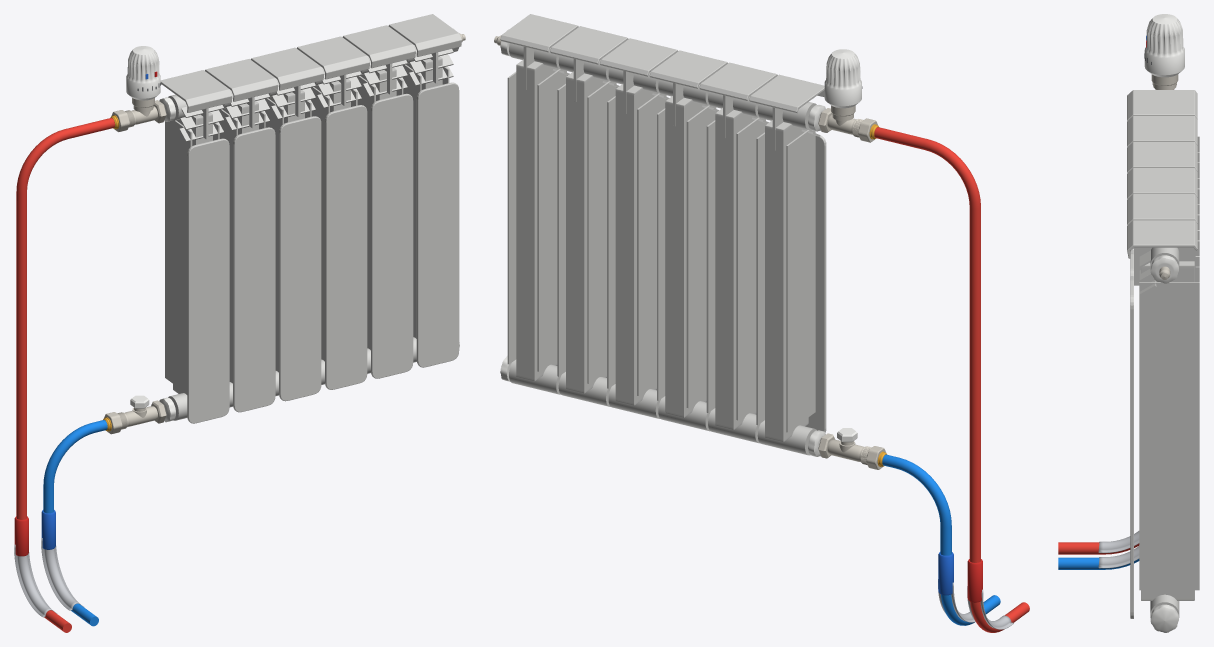
Rendered from side_node_sect_straight_std_x_white.glb.
The picture shows the model from 3 angles, left to right: view 1: azimuth 30°, elevation 25°; view 2: azimuth 150°, elevation 25°; view 3: azimuth 270°, elevation 25°; orthographic projection. The views are drawn at different scales.
Visible parts, largest first — view 1: панель секции.005, панель секции.001, панель секции, панель секции.002, панель секции.003, панель секции.004, ребро, труба 16, козырёк.005, козырёк.004, козырёк.002, козырёк.001 (+11 smaller); view 2: ребро, тело секции, тело секции.003, тело секции.001, тело секции.005, тело секции.004, тело секции.002, труба 16, ребро.004, ребро.002, ребро.010, ребро.008 (+23 smaller); view 3: ребро.011, термоголовка, козырёк.005, козырёк.004, козырёк.003, козырёк, козырёк.001, козырёк.002, панель секции.005, тело секции.005, заглушка набора, труба 16 (+8 smaller).
Part boxes in pixels (x1,y1,x2,y2): панель секции.005: (416,82,459,367); панель секции.001: (233,127,275,412); панель секции: (187,138,229,423); панель секции.002: (279,116,321,401); панель секции.003: (325,105,367,389); панель секции.004: (371,93,413,378); ребро: (165,120,192,393); труба 16: (16,118,114,632); козырёк.005: (388,14,461,56); козырёк.004: (342,25,415,68); козырёк.002: (250,47,324,90); козырёк.001: (205,59,278,101); ребро: (786,129,815,432); тело секции: (765,120,808,442); тело секции.003: (615,84,658,405); тело секции.001: (715,108,757,429); тело секции.005: (516,59,558,381); тело секции.004: (566,71,608,393); тело секции.002: (665,96,707,417); труба 16: (874,127,1029,632); ребро.004: (686,105,716,407); ребро.002: (736,117,765,420); ребро.010: (537,69,566,371); ребро.008: (587,81,616,383); ребро.011: (1139,282,1199,590); термоголовка: (1144,14,1184,77); козырёк.005: (1127,220,1197,258); козырёк.004: (1127,194,1197,224); козырёк.003: (1127,168,1197,198); козырёк: (1127,90,1197,120); козырёк.001: (1127,116,1197,146); козырёк.002: (1127,142,1197,172); панель секции.005: (1130,279,1133,618); тело секции.005: (1141,261,1194,600); заглушка набора: (1150,604,1178,632); труба 16: (1058,542,1139,554).
Size of the model in its own units: 0.7844 by 0.8665 by 0.183.
